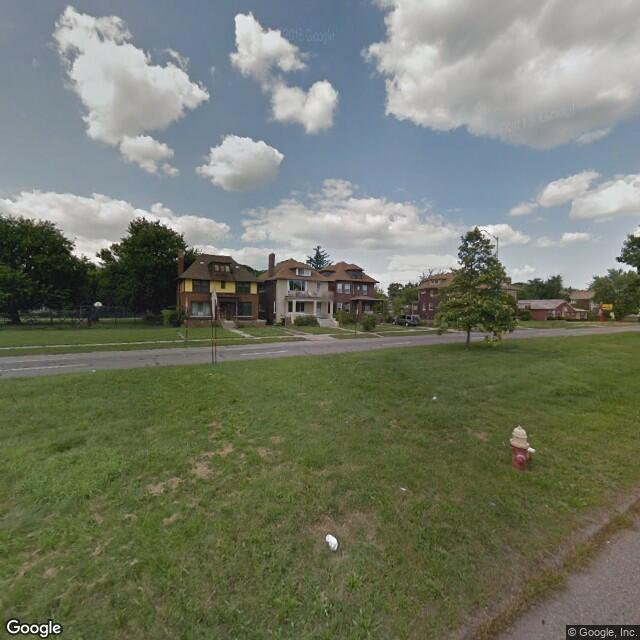litter: (326, 534, 341, 552), (430, 395, 438, 402), (91, 365, 97, 370), (401, 488, 410, 490)
